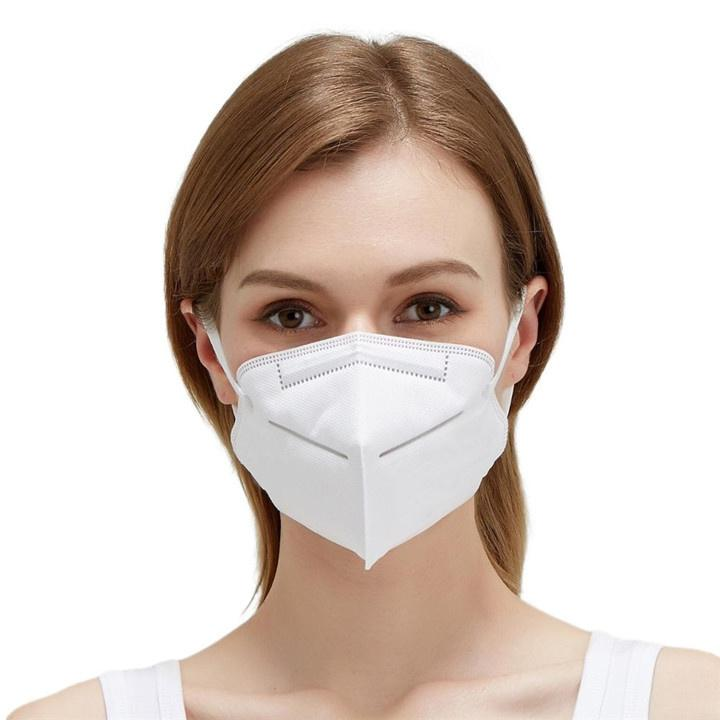OK: (216, 236, 510, 536)
